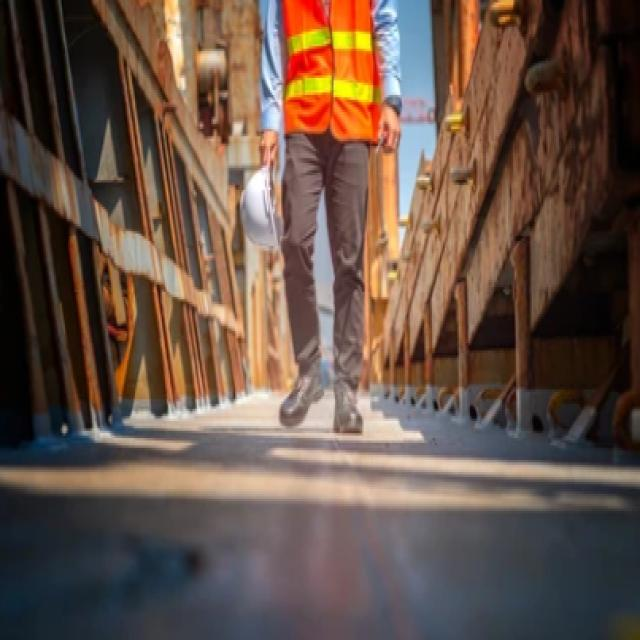boots: (279, 354, 370, 440)
vest: (277, 0, 382, 151)
